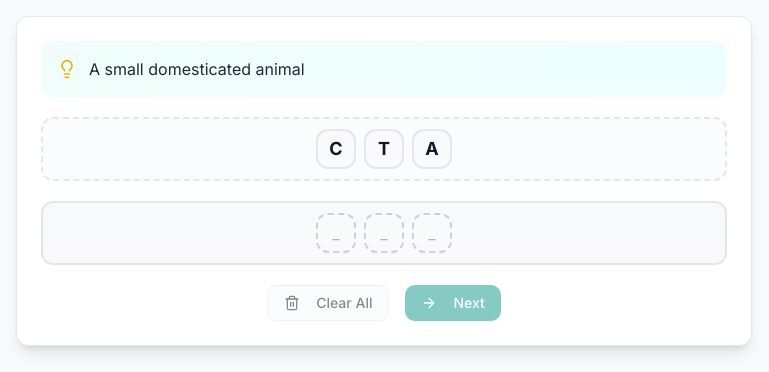
Scenario: WordBuilderPlayer › letter placement (click-to-place) › returns letter to letter bank when placed letter is clicked
Place a letter
Step 1. Click the button "t" → (384,149), box [364,129,404,169]
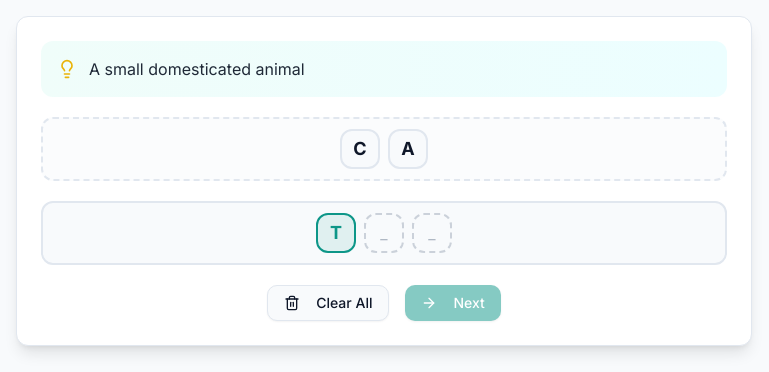
Result: the text "_" is shown 2 times at [364,213,404,253]; [412,213,452,253]
Step 2. Click the button "t" → (336,233), box [316,213,356,253]
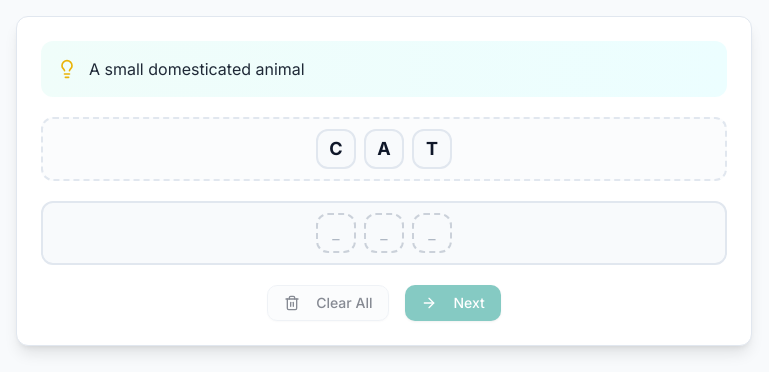
Result: the text "_" is shown 3 times at [316,213,356,253]; [364,213,404,253]; [412,213,452,253]
